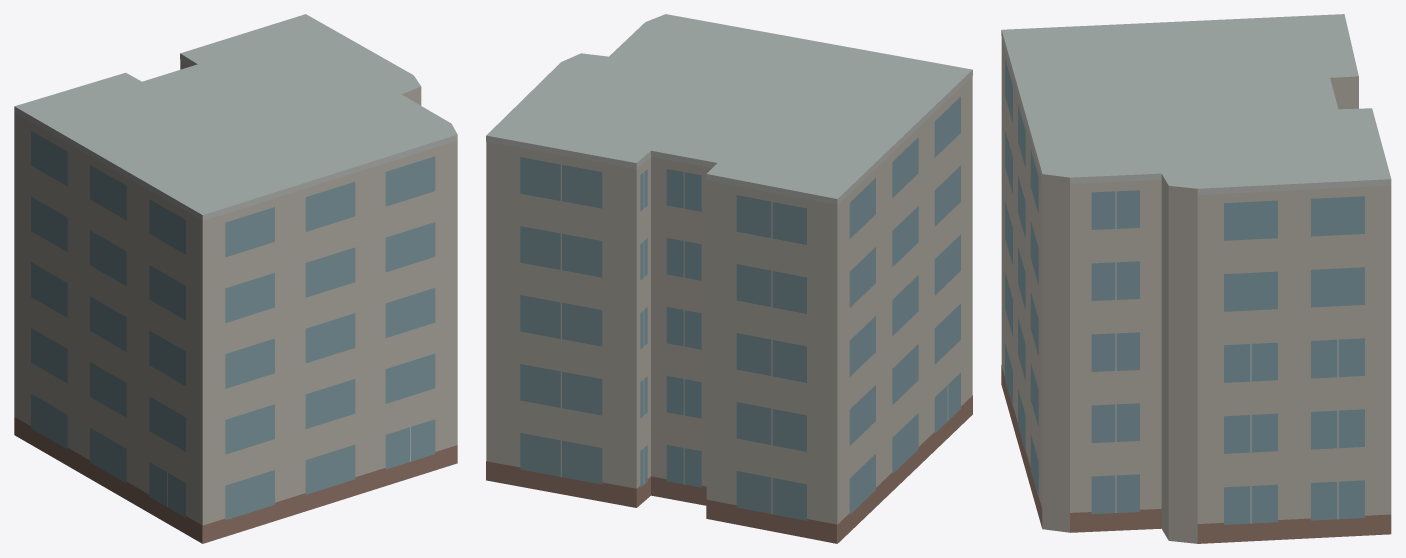
File: survey-upis-32608117.glb
3 renders of one model, left to right at view 1: azimuth 30°, elevation 25°; view 2: azimuth 150°, elevation 25°; view 3: azimuth 270°, elevation 25°, orthographic. The views are drawn at different scales.
Parts seen in each view (by area): view 1: survey-upis-32608117.tmp; view 2: survey-upis-32608117.tmp; view 3: survey-upis-32608117.tmp.
Boxes of the visible parts, x1,y1,x2,y2 form: survey-upis-32608117.tmp: (14,14,457,543); survey-upis-32608117.tmp: (486,14,972,543); survey-upis-32608117.tmp: (1001,14,1391,543).
Size of the model in its own units: 14.57 by 13.8 by 13.74.
